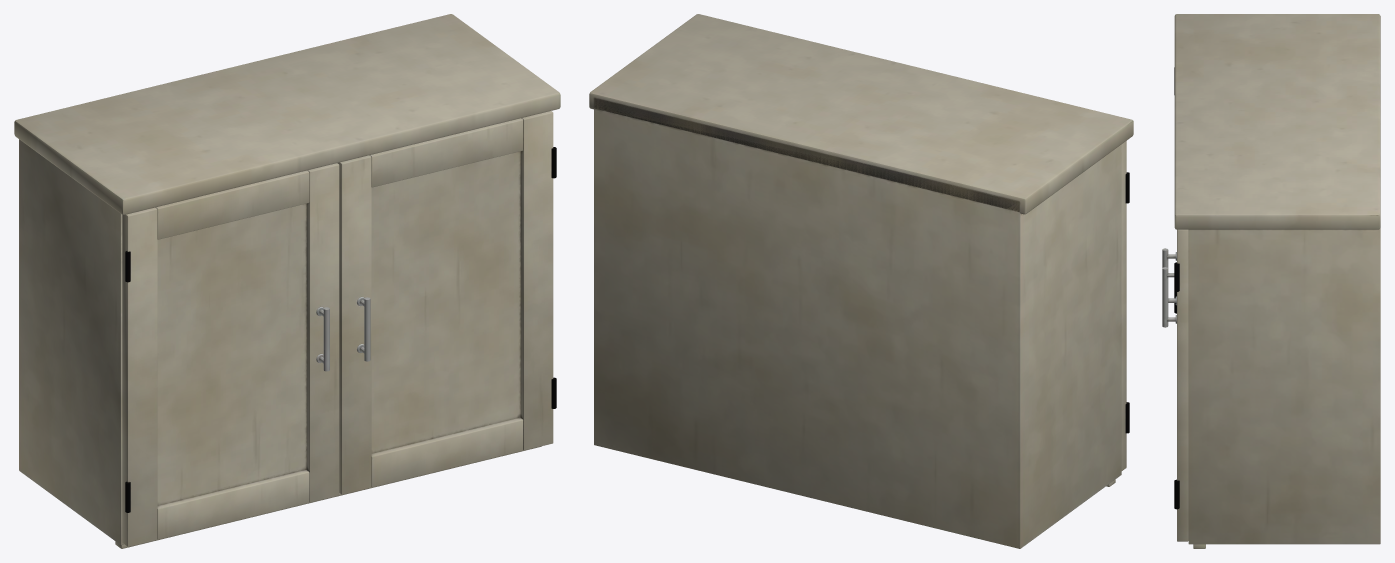
The model's file is armario_aereo.glb.
3 views of the same model, side by side, from view 1: azimuth 30°, elevation 25°; view 2: azimuth 150°, elevation 25°; view 3: azimuth 270°, elevation 25° (orthographic). The views are drawn at different scales.
Parts seen in each view (by area): view 1: corpo, porta_esq, porta_dir; view 2: corpo, porta_esq; view 3: corpo, porta_dir, porta_esq.
Boxes of the visible parts, x1,y1,x2,y2 form: corpo: [14, 14, 560, 548]; porta_esq: [122, 163, 339, 546]; porta_dir: [337, 111, 556, 494]; corpo: [589, 14, 1133, 548]; porta_esq: [1121, 141, 1129, 470]; corpo: [1174, 14, 1380, 548]; porta_dir: [1162, 229, 1188, 541]; porta_esq: [1162, 67, 1176, 313].
Bounding box in the file's own units: 0.82 × 0.642 × 0.375.
Materials: 2 (2 with a texture image).
